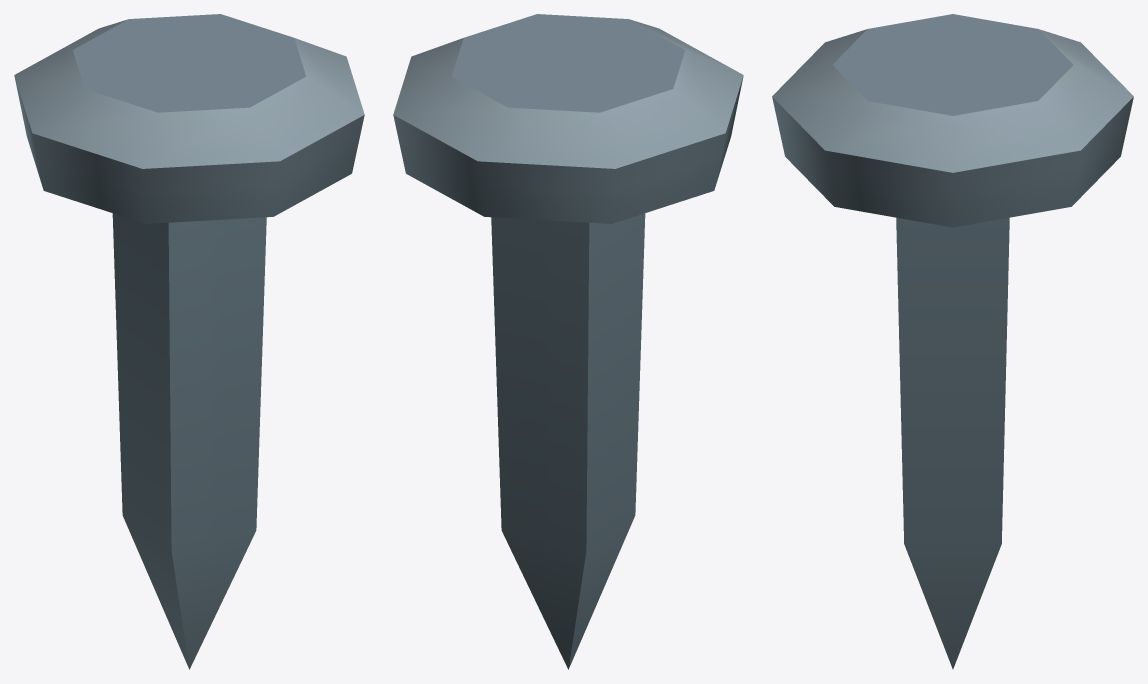
File: nail.glb
The picture shows the model from 3 angles, left to right: view 1: azimuth 30°, elevation 25°; view 2: azimuth 150°, elevation 25°; view 3: azimuth 270°, elevation 25°; orthographic projection.
Parts seen in each view (by area): view 1: nail; view 2: nail; view 3: nail.
Part boxes in pixels (x1=…): nail: x1=14, y1=14, x2=364, y2=669; nail: x1=393, y1=14, x2=743, y2=669; nail: x1=772, y1=14, x2=1133, y2=669.
Bounding box in the file's own units: 0.1589 × 0.2931 × 0.1589.
Materials: 1 (1 with a texture image).
